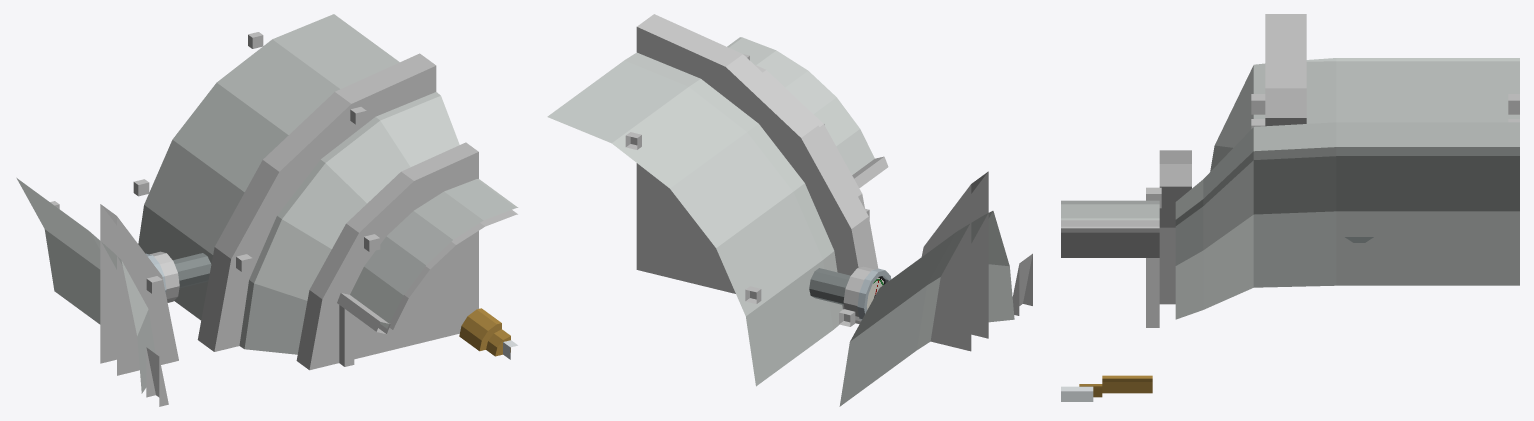
The model's file is cell_88.obj.
3 renders of one model, left to right at view 1: azimuth 30°, elevation 25°; view 2: azimuth 150°, elevation 25°; view 3: azimuth 270°, elevation 25°, orthographic. The views are drawn at different scales.
Bounding box in the file's own units: 1 × 0.695 × 1.
